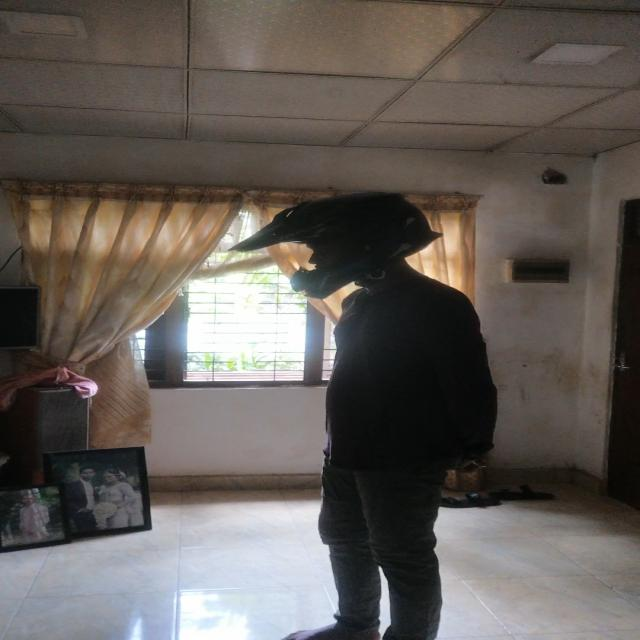Helmet_Wearer: (242, 193, 436, 290)
Person: (224, 184, 526, 630)
